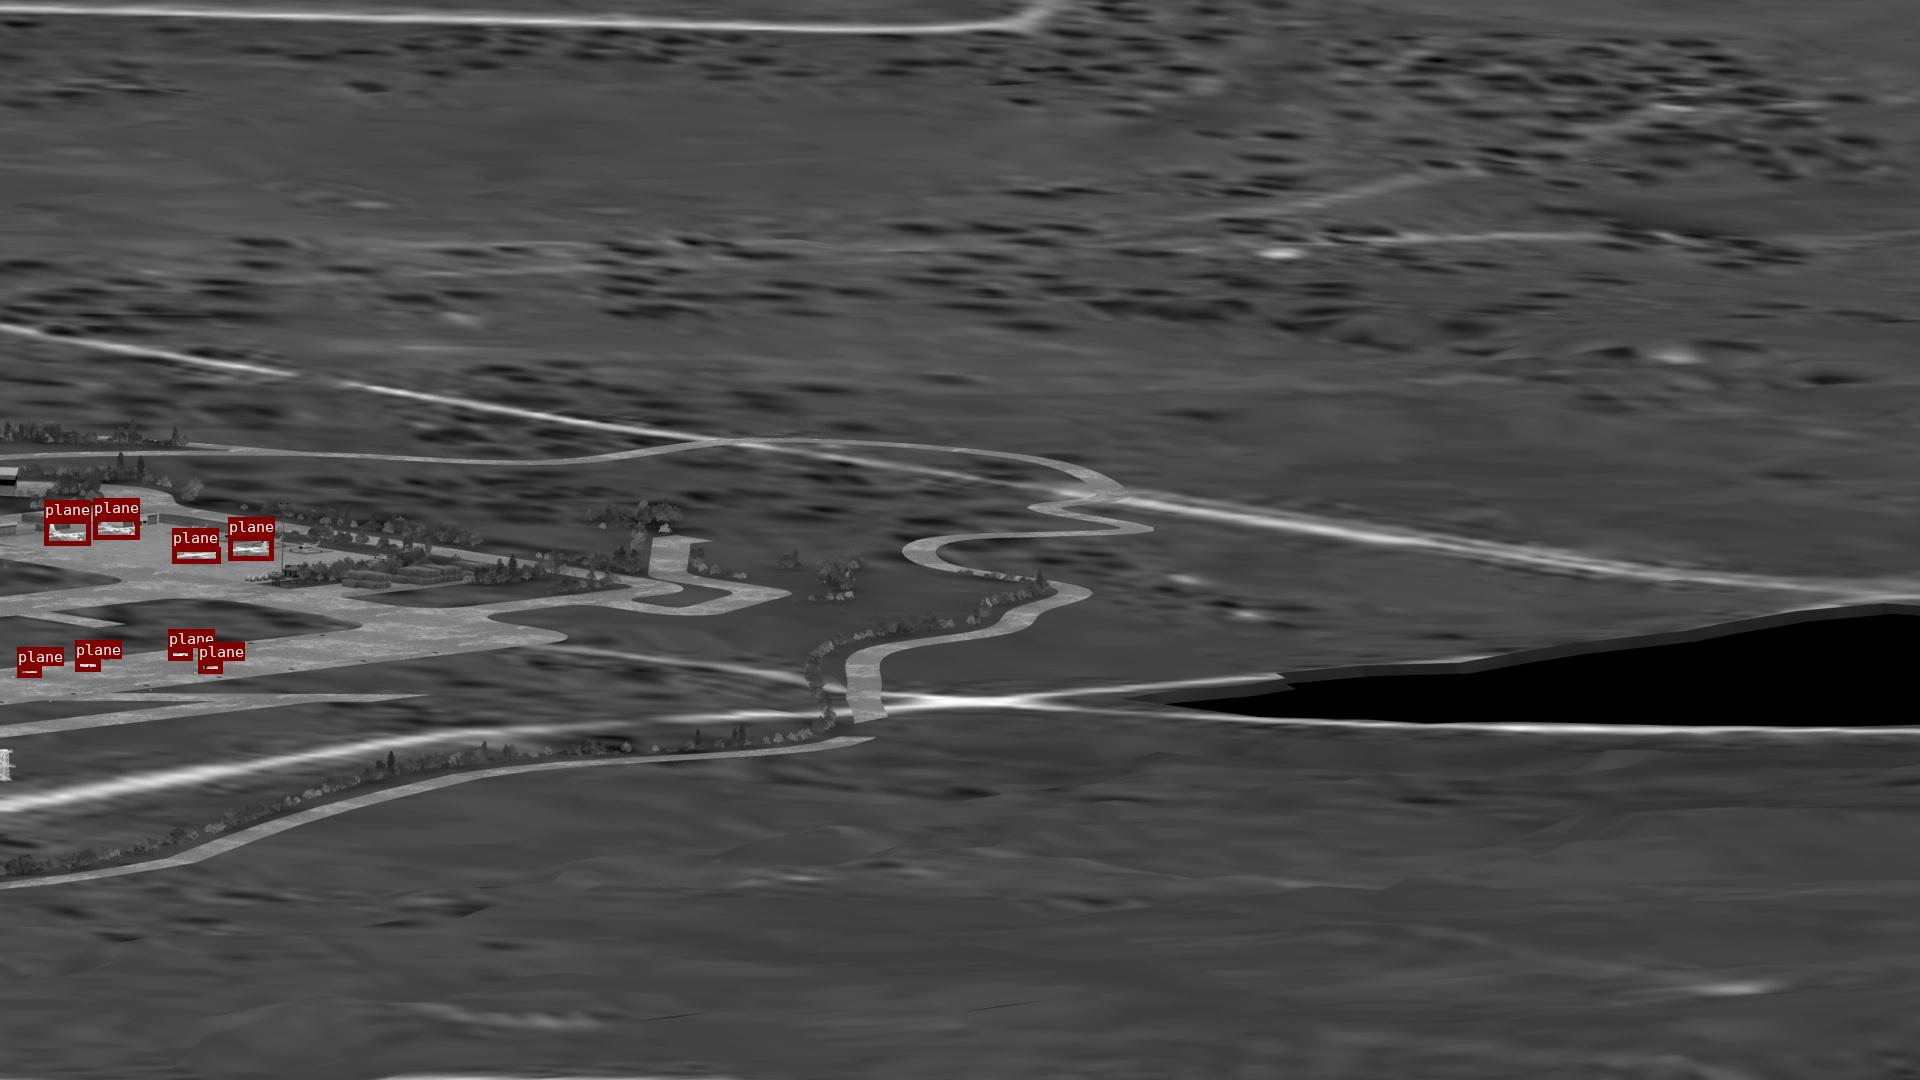plane: (44, 520, 90, 545), (228, 535, 273, 560), (94, 517, 138, 539), (171, 547, 220, 563), (75, 659, 100, 671), (167, 647, 193, 659), (198, 661, 222, 673), (17, 666, 41, 676)
